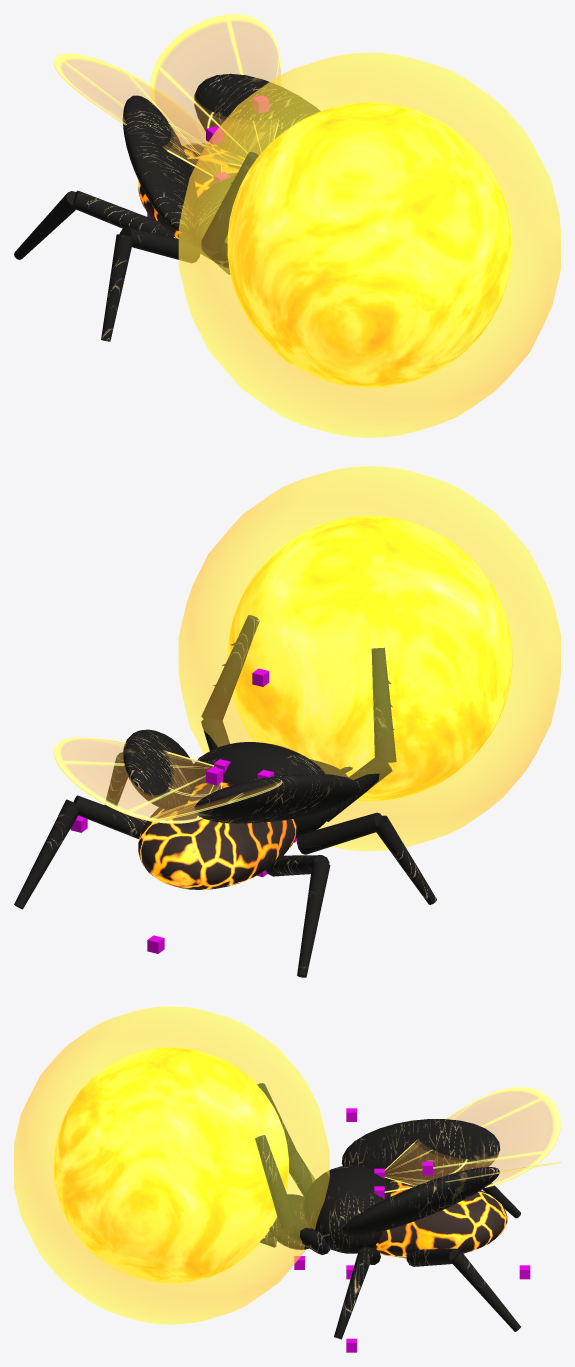
Rendered from 03_scarabeo_fornace.glb.
The picture shows the model from 3 angles, top to bottom: view 1: azimuth 30°, elevation 25°; view 2: azimuth 150°, elevation 25°; view 3: azimuth 270°, elevation 25°; orthographic projection. The views are drawn at different scales.
Parts seen in each view (by area): view 1: Scarabeo__Alone_Sfera, Scarabeo__Sfera_Magma__Sfera, Scarabeo__Guscio, Scarabeo__Ali_Membrana__Ala_R, Scarabeo__Ali_Membrana__Ala_L, Scarabeo__Addome_Brace; view 2: Scarabeo__Alone_Sfera, Scarabeo__Sfera_Magma__Sfera, Scarabeo__Guscio, Scarabeo__Addome_Brace, Scarabeo__Ali_Membrana__Ala_R, Scarabeo__Ali_Membrana__Ala_L; view 3: Scarabeo__Alone_Sfera, Scarabeo__Sfera_Magma__Sfera, Scarabeo__Guscio, Scarabeo__Ali_Membrana__Ala_L, Scarabeo__Addome_Brace.
Part boxes in pixels (bbox=[...]): Scarabeo__Alone_Sfera: bbox=[178, 53, 560, 437]; Scarabeo__Sfera_Magma__Sfera: bbox=[227, 102, 512, 387]; Scarabeo__Guscio: bbox=[14, 73, 320, 341]; Scarabeo__Ali_Membrana__Ala_R: bbox=[150, 14, 281, 165]; Scarabeo__Ali_Membrana__Ala_L: bbox=[53, 53, 221, 176]; Scarabeo__Addome_Brace: bbox=[138, 143, 244, 241]; Scarabeo__Alone_Sfera: bbox=[178, 466, 560, 851]; Scarabeo__Sfera_Magma__Sfera: bbox=[227, 516, 512, 801]; Scarabeo__Guscio: bbox=[14, 615, 436, 977]; Scarabeo__Addome_Brace: bbox=[138, 782, 297, 889]; Scarabeo__Ali_Membrana__Ala_R: bbox=[53, 737, 222, 823]; Scarabeo__Ali_Membrana__Ala_L: bbox=[150, 780, 282, 821]; Scarabeo__Alone_Sfera: bbox=[14, 1006, 329, 1324]; Scarabeo__Sfera_Magma__Sfera: bbox=[53, 1047, 288, 1283]; Scarabeo__Guscio: bbox=[255, 1083, 520, 1339]; Scarabeo__Ali_Membrana__Ala_L: bbox=[384, 1087, 560, 1187]; Scarabeo__Addome_Brace: bbox=[373, 1179, 507, 1258].
Size of the model in its own units: 2.93 by 2.75 by 4.73.
6 materials, 4 textured.
